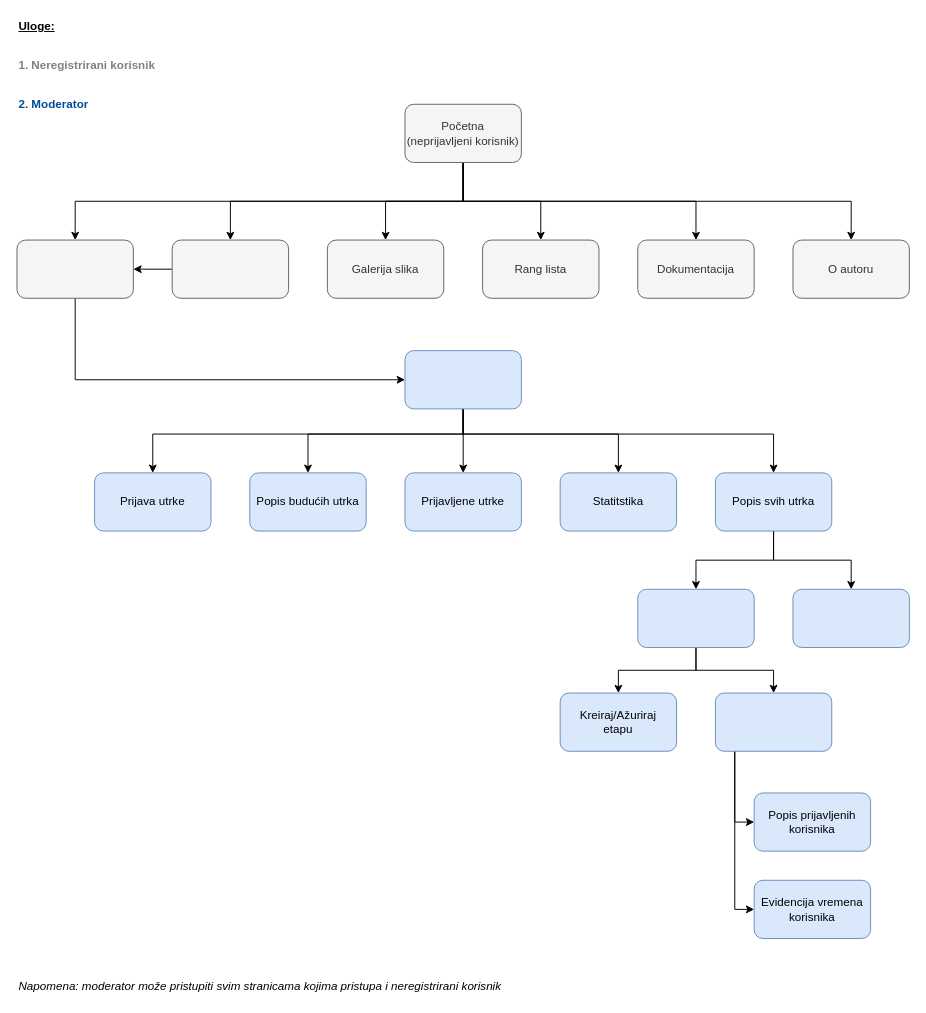
Image size: 926x1013. Some labels were removed from this diagram. The centre of each missing label's shape, as x and y in pixels:
Bodovno stanje: the point at 850,617
Etapa: the point at 773,721
Etape: the point at 695,617
Početna (moderator): the point at 462,379
Prijava: the point at 74,268
Registracija: the point at 230,268
